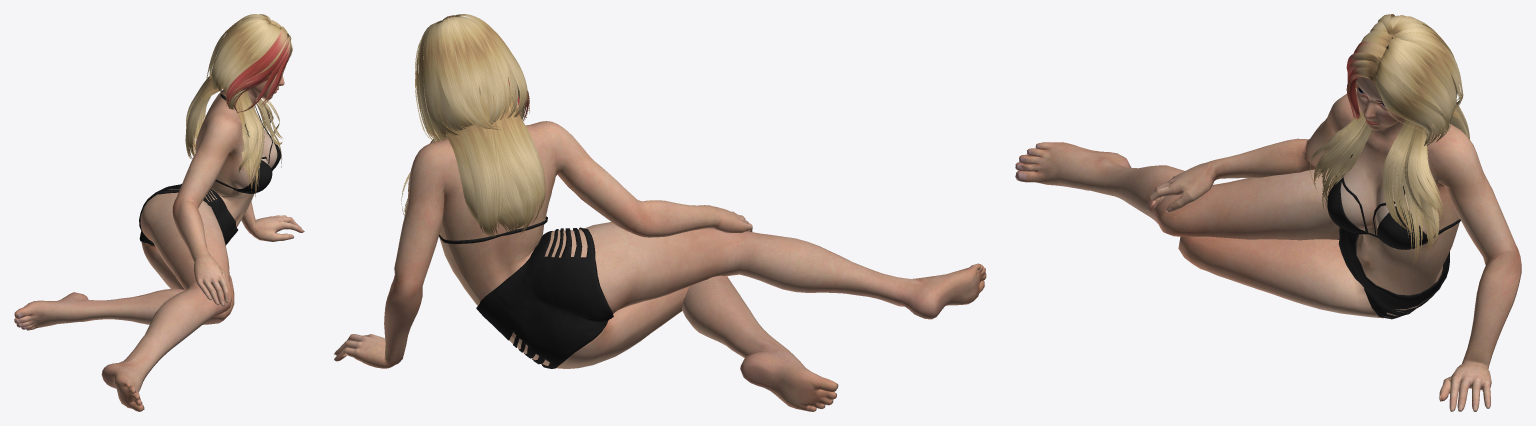
File: SkinSSS.FBX
3 views of the same model, side by side, from view 1: azimuth 30°, elevation 25°; view 2: azimuth 150°, elevation 25°; view 3: azimuth 270°, elevation 25° (orthographic). The views are drawn at different scales.
Parts seen in each view (by area): view 1: Model001_24_Face_0.9_1_1; view 2: Model001_24_Face_0.9_1_1; view 3: Model001_24_Face_0.9_1_1.
Boxes of the visible parts, bbox=[...] form: Model001_24_Face_0.9_1_1: bbox=[14, 14, 304, 411]; Model001_24_Face_0.9_1_1: bbox=[334, 14, 986, 411]; Model001_24_Face_0.9_1_1: bbox=[1015, 14, 1521, 411].
Size of the model in its own units: 110 by 78.92 by 104.
